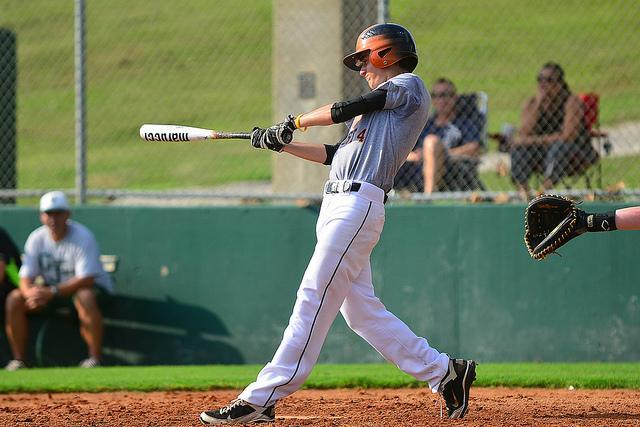bat: (138, 122, 252, 142)
